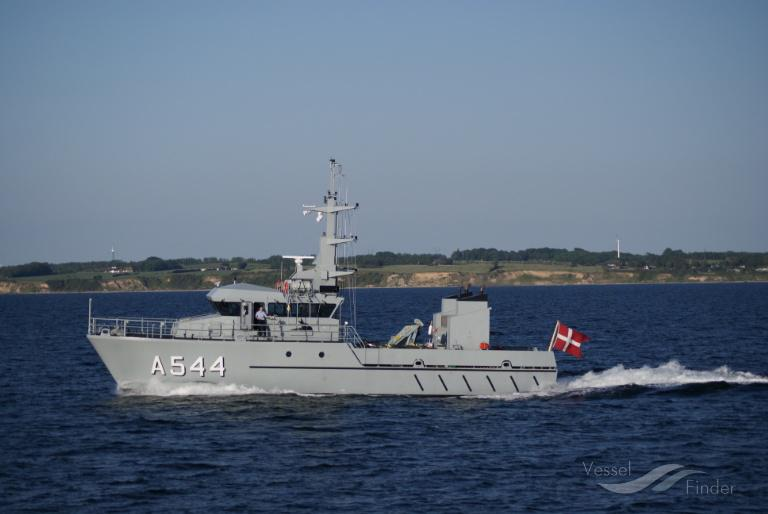OCR: (150, 355, 233, 382)
